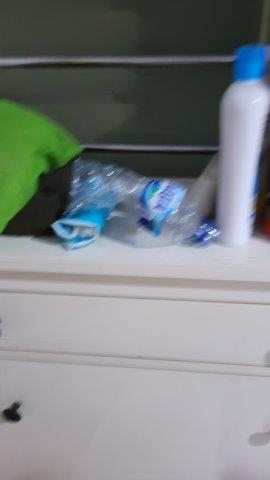botolplastik: (69, 160, 221, 257)
